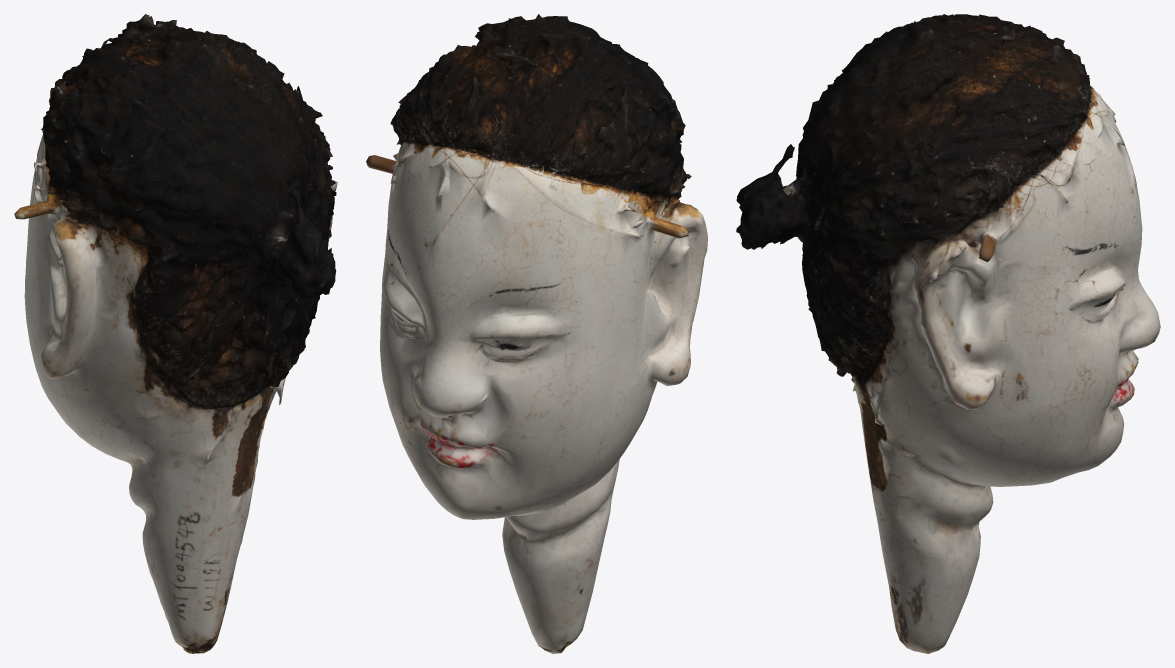
File: MTY004548.glb
The picture shows the model from 3 angles, left to right: view 1: azimuth 30°, elevation 25°; view 2: azimuth 150°, elevation 25°; view 3: azimuth 270°, elevation 25°; orthographic projection. The views are drawn at different scales.
Parts seen in each view (by area): view 1: MTY004548; view 2: MTY004548; view 3: MTY004548.
Part boxes in pixels (x1,y1,x2,y2): MTY004548: (14,14,337,653); MTY004548: (366,14,707,653); MTY004548: (736,14,1160,653).
Size of the model in its own units: 28.84 by 54.84 by 33.51.
1 material, 1 textured.
